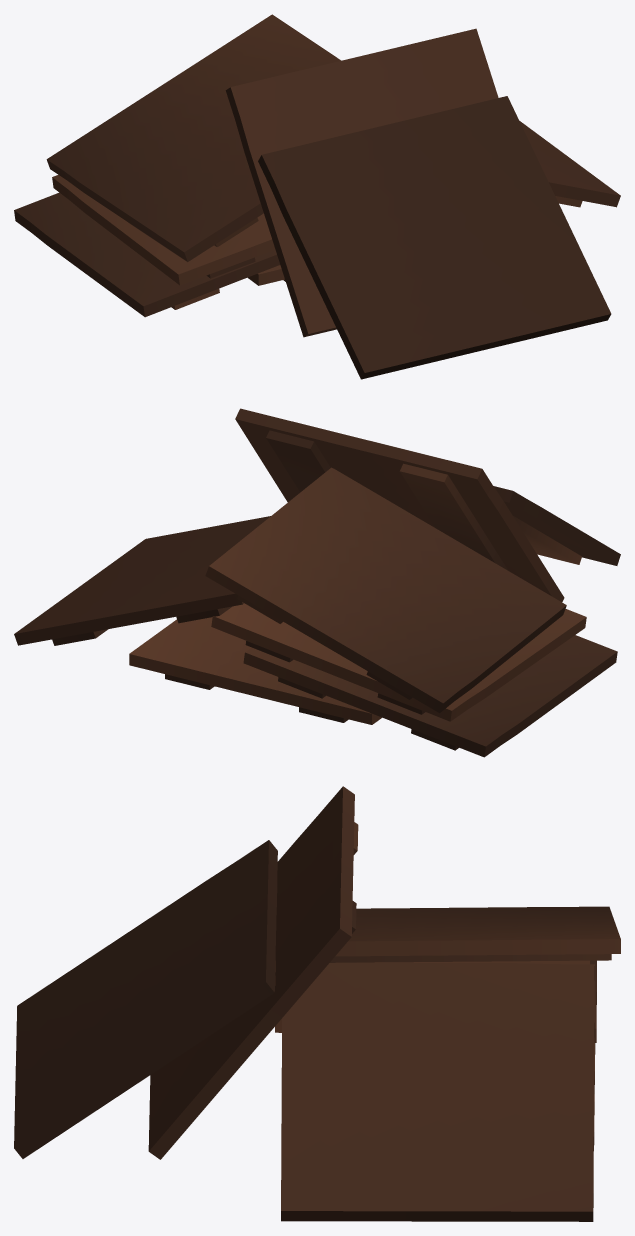
File: Multiple Tall Messy Dark Crate Lids.fbx
3 renders of one model, top to bottom at view 1: azimuth 30°, elevation 25°; view 2: azimuth 150°, elevation 25°; view 3: azimuth 270°, elevation 25°, orthographic. The views are drawn at different scales.
Parts seen in each view (by area): view 1: Multiple Tall Dark Messy Crate Lids; view 2: Multiple Tall Dark Messy Crate Lids; view 3: Multiple Tall Dark Messy Crate Lids.
Boxes of the visible parts, x1=… form: Multiple Tall Dark Messy Crate Lids: x1=14, y1=14, x2=620, y2=379; Multiple Tall Dark Messy Crate Lids: x1=14, y1=408, x2=620, y2=757; Multiple Tall Dark Messy Crate Lids: x1=14, y1=786, x2=620, y2=1221.
Size of the model in its own units: 174 by 405 by 438.
Materials: 1 (1 with a texture image).
